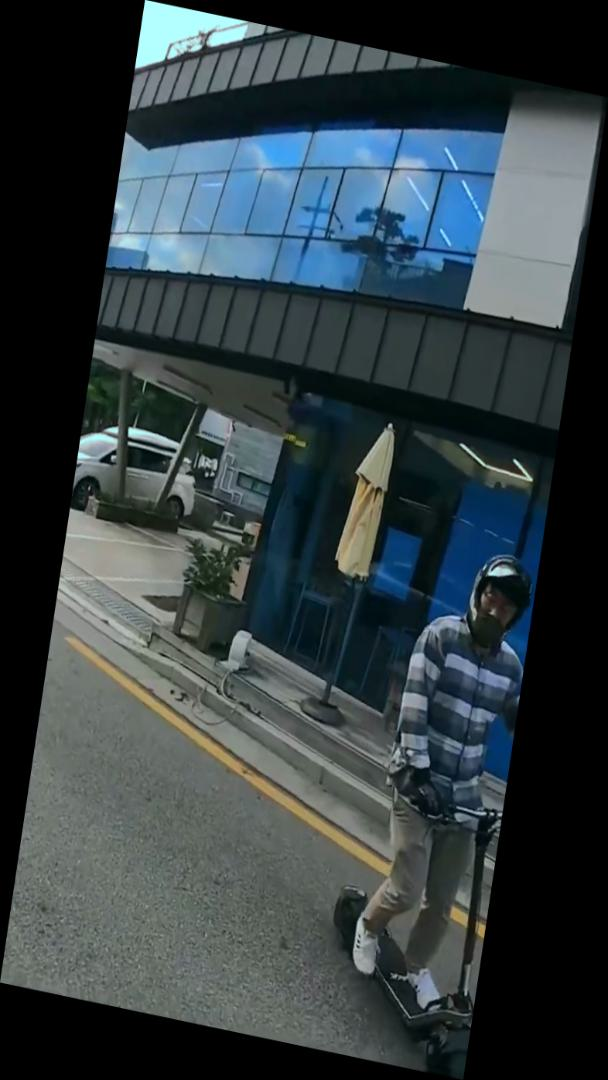helmet: (311, 524, 539, 1080)
